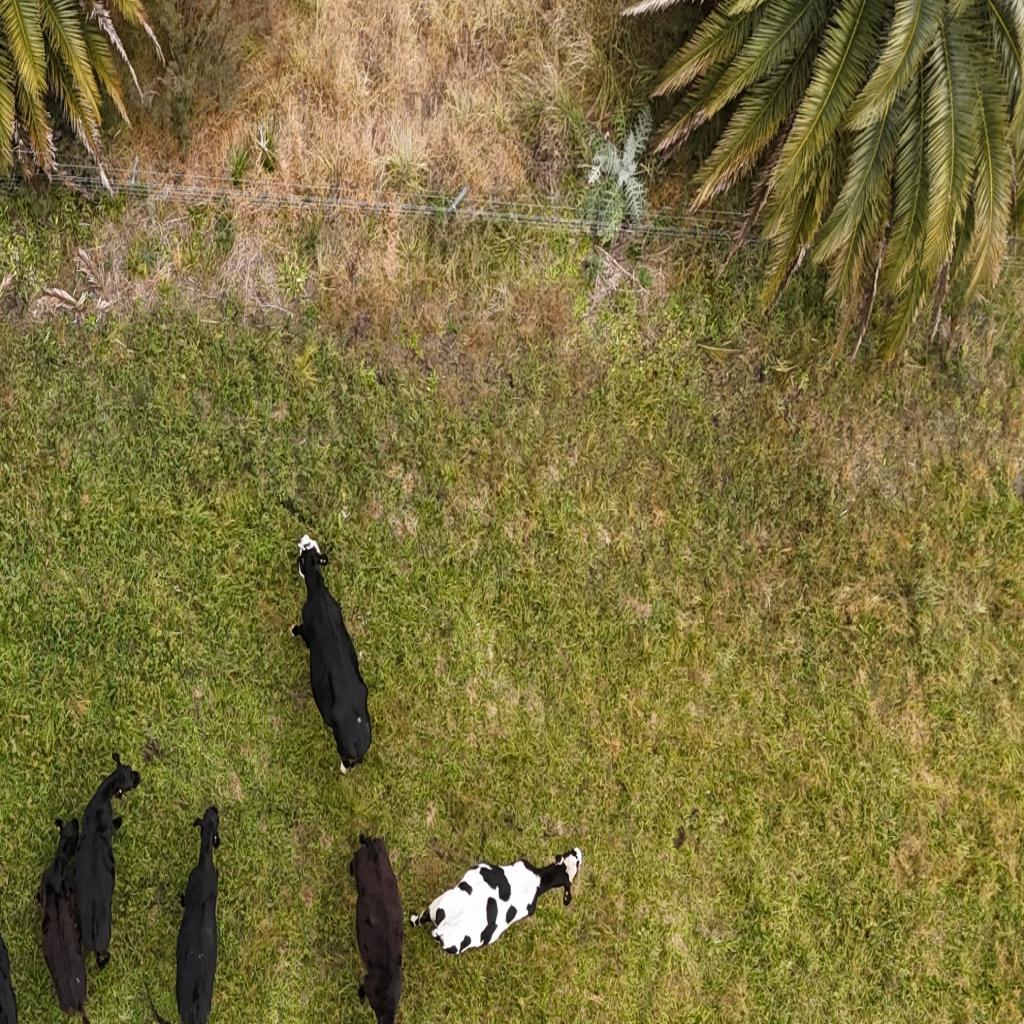cow: (406, 832, 586, 988), (288, 532, 374, 780), (67, 757, 142, 973), (170, 805, 224, 1024), (34, 818, 90, 1022), (349, 832, 405, 1022)
